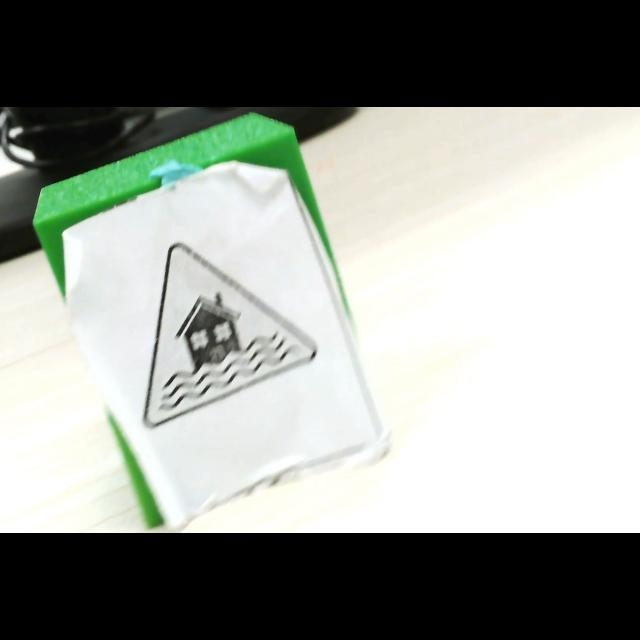Tsunami: (143, 243, 316, 427)
